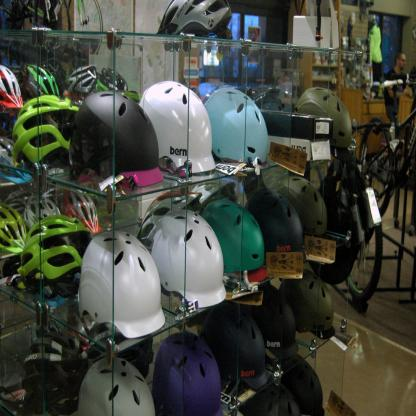Helmet: (78, 230, 165, 340), (71, 86, 162, 176), (145, 210, 227, 304), (193, 301, 275, 393), (138, 80, 217, 175), (198, 198, 272, 288), (20, 217, 96, 298), (153, 331, 221, 416), (9, 92, 75, 176), (204, 81, 271, 163), (18, 330, 84, 403), (78, 354, 154, 416), (258, 352, 326, 416), (292, 84, 354, 153), (241, 286, 302, 353), (278, 272, 336, 342), (157, 0, 236, 51), (246, 190, 308, 250), (270, 173, 327, 234), (44, 187, 100, 242), (3, 187, 59, 233), (0, 204, 30, 281), (16, 59, 58, 97), (62, 62, 97, 104), (0, 64, 23, 114), (95, 69, 131, 98)
